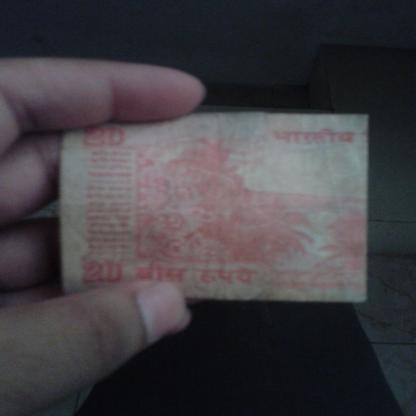Old20Back: (59, 110, 370, 302)
